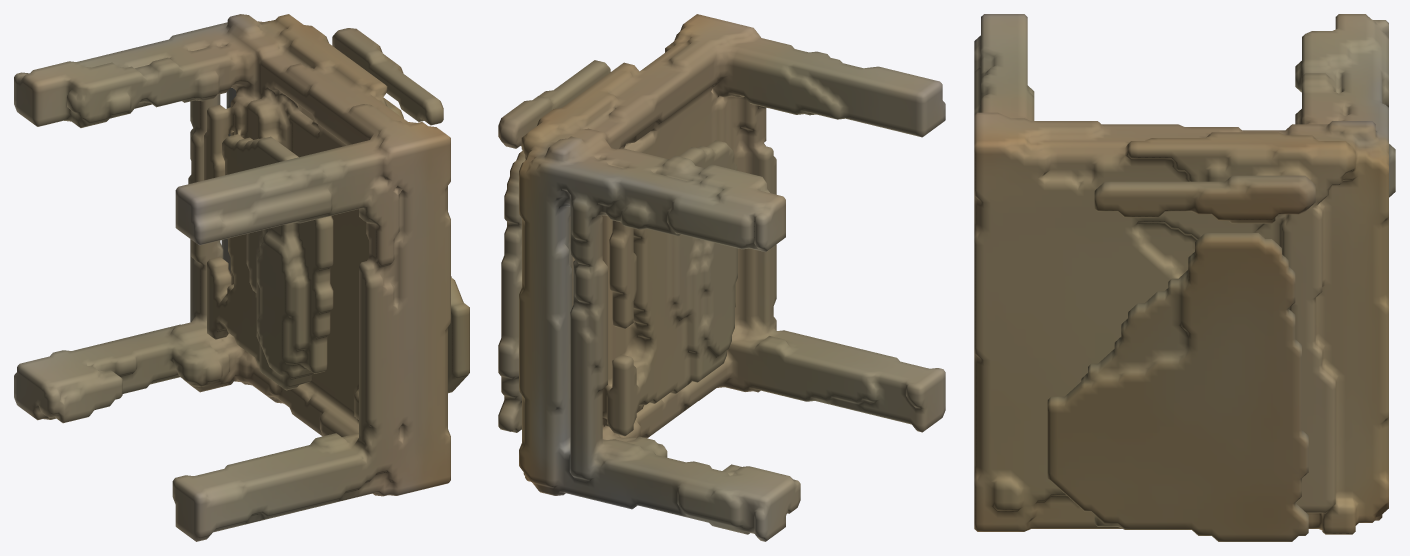
File: A wooden table with four legs. It has square shape.glb
3 views of the same model, side by side, from view 1: azimuth 30°, elevation 25°; view 2: azimuth 150°, elevation 25°; view 3: azimuth 270°, elevation 25° (orthographic). The views are drawn at different scales.
Parts seen in each view (by area): view 1: A wooden table with four legs. It has square shape; view 2: A wooden table with four legs. It has square shape; view 3: A wooden table with four legs. It has square shape.
Boxes of the visible parts, x1,y1,x2,y2 form: A wooden table with four legs. It has square shape: (14, 14, 469, 541); A wooden table with four legs. It has square shape: (498, 14, 945, 541); A wooden table with four legs. It has square shape: (974, 14, 1395, 541).
Bounding box in the file's own units: 59 × 64 × 63.
